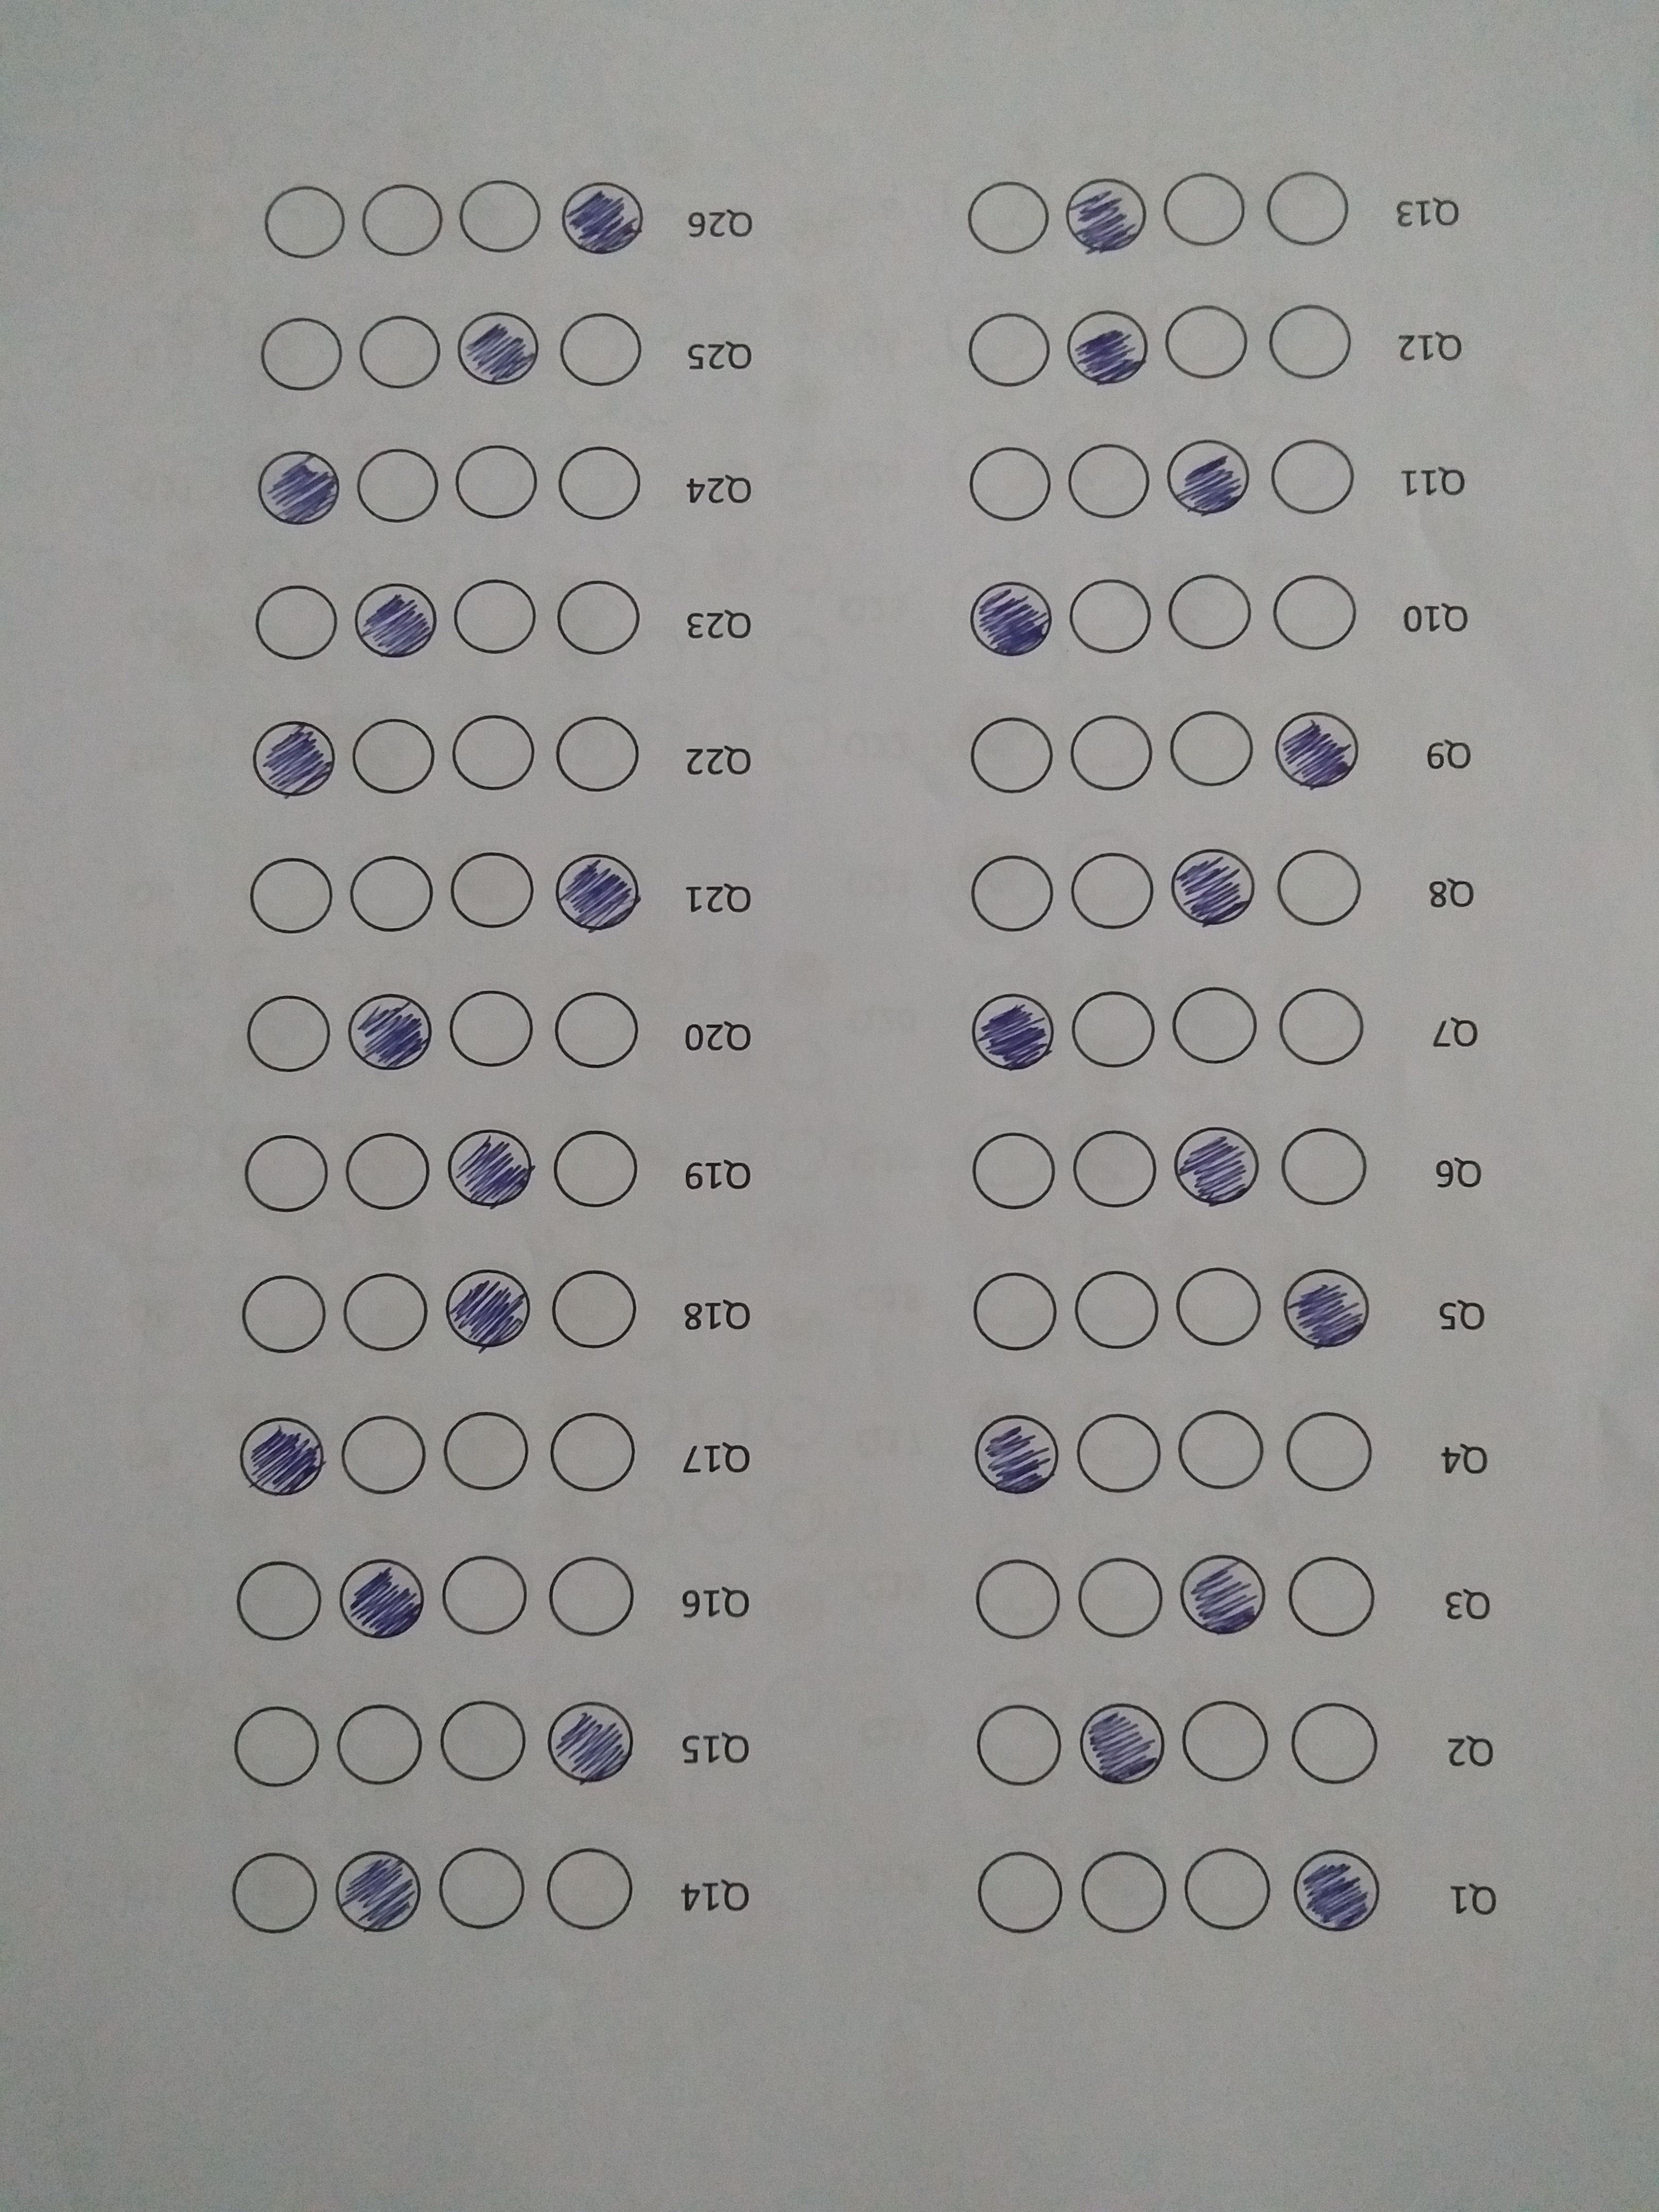not-c: (251, 169, 354, 268), (242, 303, 347, 401), (1283, 1693, 1384, 1789), (965, 1843, 1065, 1939), (951, 303, 1054, 394), (1178, 1843, 1277, 1935), (1269, 840, 1370, 930), (227, 1698, 322, 1792), (542, 1548, 636, 1642), (1073, 1843, 1168, 1937), (965, 1263, 1061, 1355), (1281, 1554, 1382, 1641), (972, 1695, 1066, 1787), (1169, 1263, 1265, 1353), (244, 577, 342, 665), (228, 1557, 326, 1646), (239, 986, 333, 1076), (1068, 1263, 1162, 1353), (1281, 1404, 1375, 1494), (1072, 1550, 1166, 1641), (443, 986, 538, 1075), (441, 843, 538, 930), (335, 1268, 432, 1355), (538, 1848, 638, 1933), (552, 307, 645, 397), (434, 1841, 526, 1932), (336, 1407, 430, 1496), (971, 1548, 1060, 1642), (234, 1129, 329, 1216), (958, 171, 1054, 258), (1265, 566, 1361, 653), (1178, 1693, 1269, 1784), (242, 850, 335, 939), (549, 1264, 641, 1353), (439, 1406, 532, 1494), (359, 167, 446, 261), (338, 1127, 432, 1214), (232, 1268, 326, 1355), (544, 1409, 638, 1496), (329, 1700, 423, 1787), (965, 1125, 1060, 1212), (228, 1846, 319, 1935), (1162, 566, 1253, 655), (1070, 1123, 1161, 1212), (547, 1129, 640, 1216), (1277, 1123, 1370, 1211), (551, 441, 645, 526), (544, 711, 641, 792), (1066, 705, 1155, 794), (354, 303, 441, 394), (1176, 1404, 1267, 1491), (437, 1552, 530, 1637), (1068, 1411, 1164, 1493), (439, 1693, 528, 1780), (1157, 300, 1251, 381), (554, 986, 640, 1075), (1063, 437, 1152, 523), (1065, 575, 1154, 660), (1068, 846, 1157, 932), (349, 714, 439, 798), (343, 850, 436, 932), (1166, 984, 1258, 1066), (1267, 300, 1361, 380), (967, 709, 1054, 794), (552, 575, 643, 657), (967, 439, 1053, 524), (1068, 986, 1155, 1069), (1279, 982, 1366, 1066), (350, 444, 441, 524), (969, 850, 1054, 934), (1168, 705, 1255, 787), (451, 709, 535, 792), (457, 176, 544, 256), (1262, 167, 1352, 244), (1162, 171, 1248, 251), (1270, 435, 1358, 514), (455, 578, 538, 657), (455, 442, 538, 519)
taken-c: (1283, 1261, 1375, 1350), (1291, 1846, 1382, 1933), (1178, 1550, 1269, 1637), (1272, 705, 1363, 792), (544, 1698, 636, 1784), (335, 1846, 422, 1935), (554, 848, 645, 934), (444, 1123, 535, 1209), (336, 1555, 427, 1641), (235, 1413, 326, 1498), (444, 1264, 535, 1350), (1162, 432, 1251, 517), (1166, 843, 1256, 927), (254, 444, 343, 528), (1173, 1122, 1262, 1205), (352, 578, 443, 660), (1080, 1700, 1166, 1785), (1063, 172, 1147, 258), (971, 577, 1056, 660), (251, 718, 338, 799), (347, 989, 434, 1071), (967, 989, 1056, 1069), (1065, 307, 1150, 388), (974, 1413, 1058, 1494), (559, 178, 647, 256), (453, 310, 540, 385)
